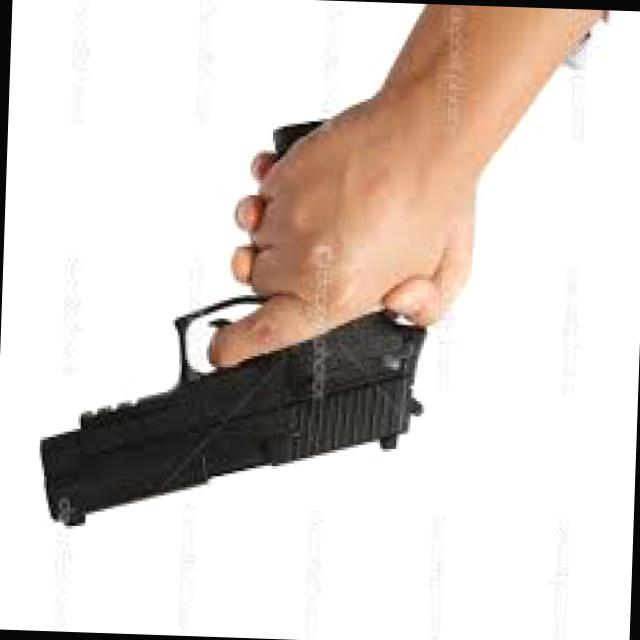handgun: (38, 98, 447, 534)
